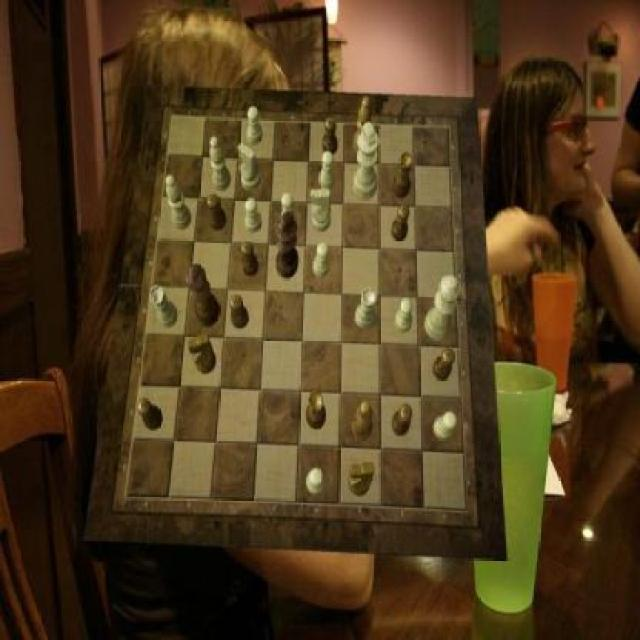bishop: (354, 97, 371, 155), (352, 402, 373, 442)
black-bishop: (277, 211, 300, 278)
black-king: (188, 334, 217, 374), (348, 462, 374, 496)
black-knight: (137, 398, 163, 431), (432, 349, 456, 382), (208, 196, 228, 232), (392, 204, 410, 240), (392, 405, 412, 437), (230, 295, 248, 330), (242, 242, 259, 278), (322, 117, 338, 155)
black-pawn: (186, 264, 220, 328)
black-queen: (392, 152, 413, 198), (306, 391, 327, 429)
black-rook: (166, 175, 191, 230), (210, 135, 232, 190)
white-bishop: (354, 122, 380, 200)
white-king: (238, 143, 261, 192), (311, 188, 331, 232)
white-knight: (432, 412, 456, 440), (395, 298, 413, 334), (280, 192, 297, 230), (318, 151, 334, 191), (248, 106, 264, 145), (314, 242, 331, 278), (246, 199, 263, 233), (306, 469, 326, 497)
white-pawn: (424, 275, 462, 341)
white-queen: (151, 285, 178, 327), (355, 288, 378, 329)
